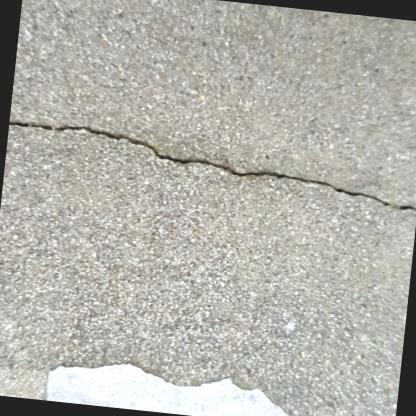crack: (8, 121, 416, 211)
